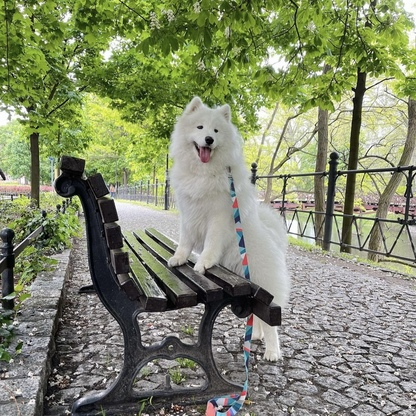samoyed: (155, 92, 305, 371)
